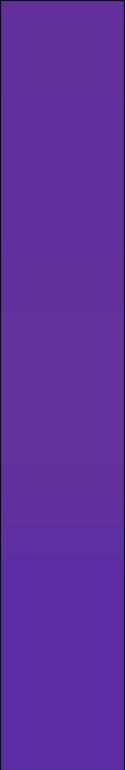safe: (14, 11, 115, 759)
